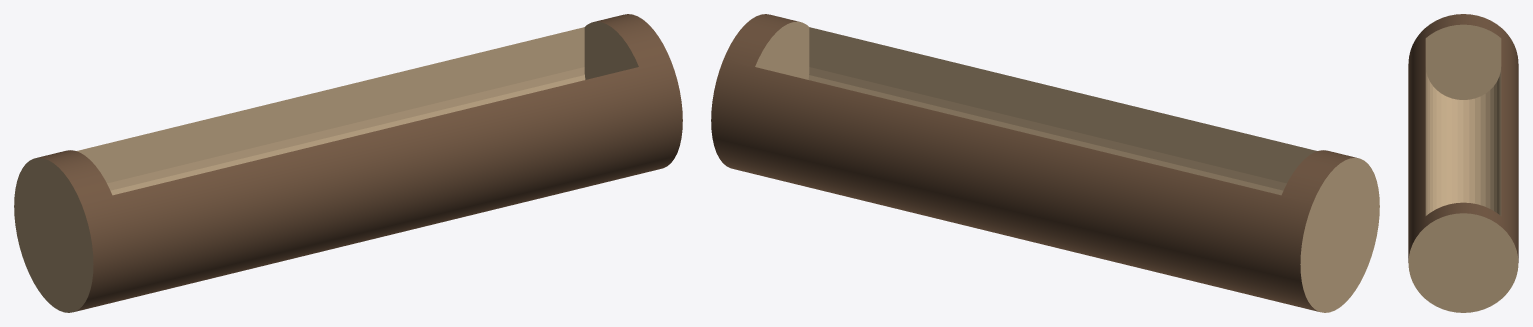
Rendered from SM_RawLog_150_Trough.fbx.
The picture shows the model from 3 angles, left to right: view 1: azimuth 30°, elevation 25°; view 2: azimuth 150°, elevation 25°; view 3: azimuth 270°, elevation 25°; orthographic projection. The views are drawn at different scales.
Parts seen in each view (by area): view 1: RawLog_150_Trough; view 2: RawLog_150_Trough; view 3: RawLog_150_Trough.
Boxes of the visible parts, bbox=[...] form: RawLog_150_Trough: bbox=[14, 14, 682, 312]; RawLog_150_Trough: bbox=[711, 14, 1379, 312]; RawLog_150_Trough: bbox=[1408, 14, 1518, 312].
Size of what is drawn, in the model's own units: 1.5 by 0.35 by 0.35.
